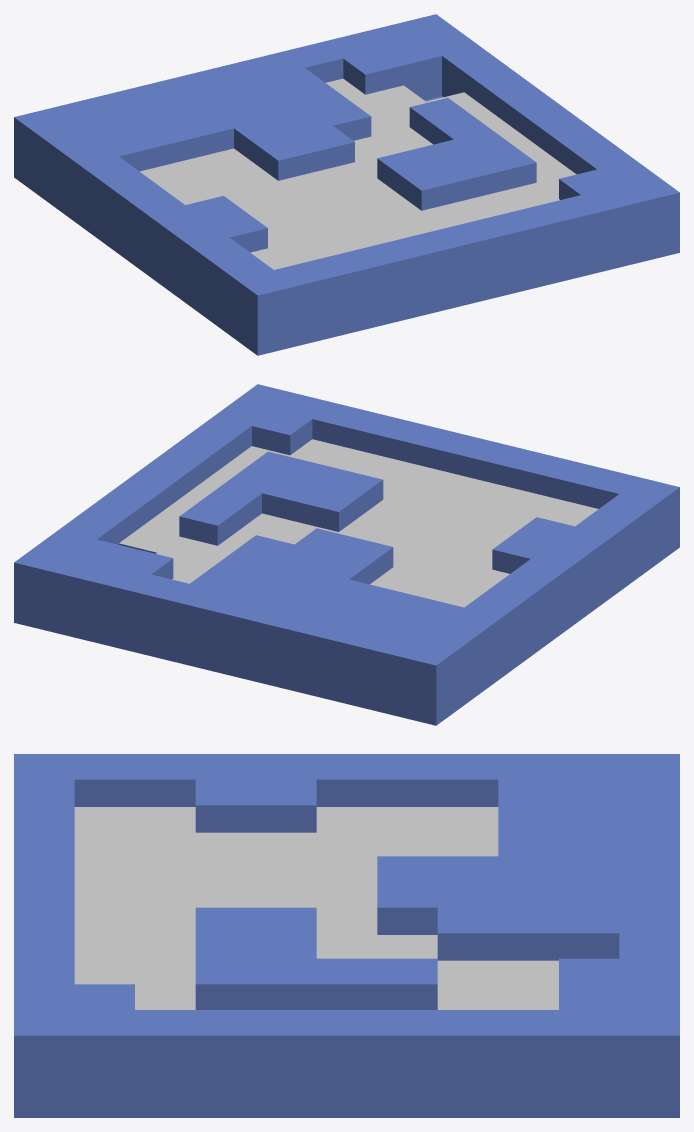
File: 030_platform.fbx
3 renders of one model, top to bottom at view 1: azimuth 30°, elevation 25°; view 2: azimuth 150°, elevation 25°; view 3: azimuth 270°, elevation 25°, orthographic. The views are drawn at different scales.
Visible parts, largest first — view 1: Cube; view 2: Cube; view 3: Cube.
Boxes of the visible parts, left/top/right/bottom form: Cube: left=14, top=14, right=679, bottom=355; Cube: left=14, top=384, right=679, bottom=725; Cube: left=14, top=754, right=679, bottom=1117.
Bounding box in the file's own units: 1100 × 150 × 1100.
